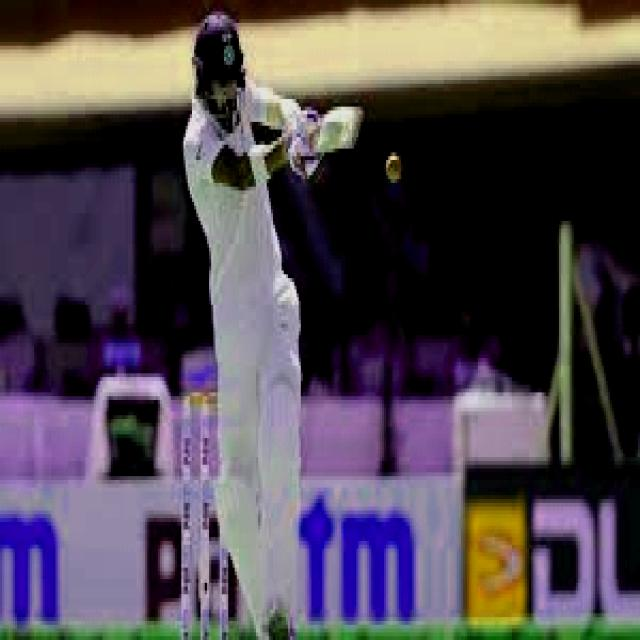toe: (338, 102, 368, 156)
